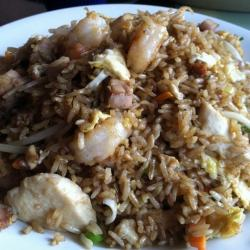rice: (18, 45, 237, 220)
